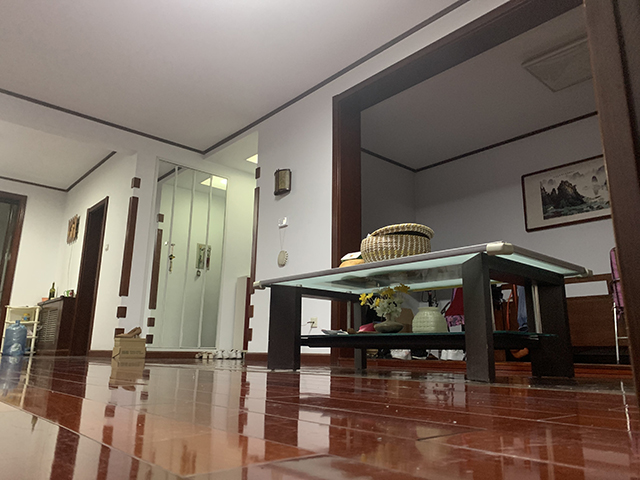cabinet: (31, 295, 75, 356)
table: (252, 239, 594, 384)
